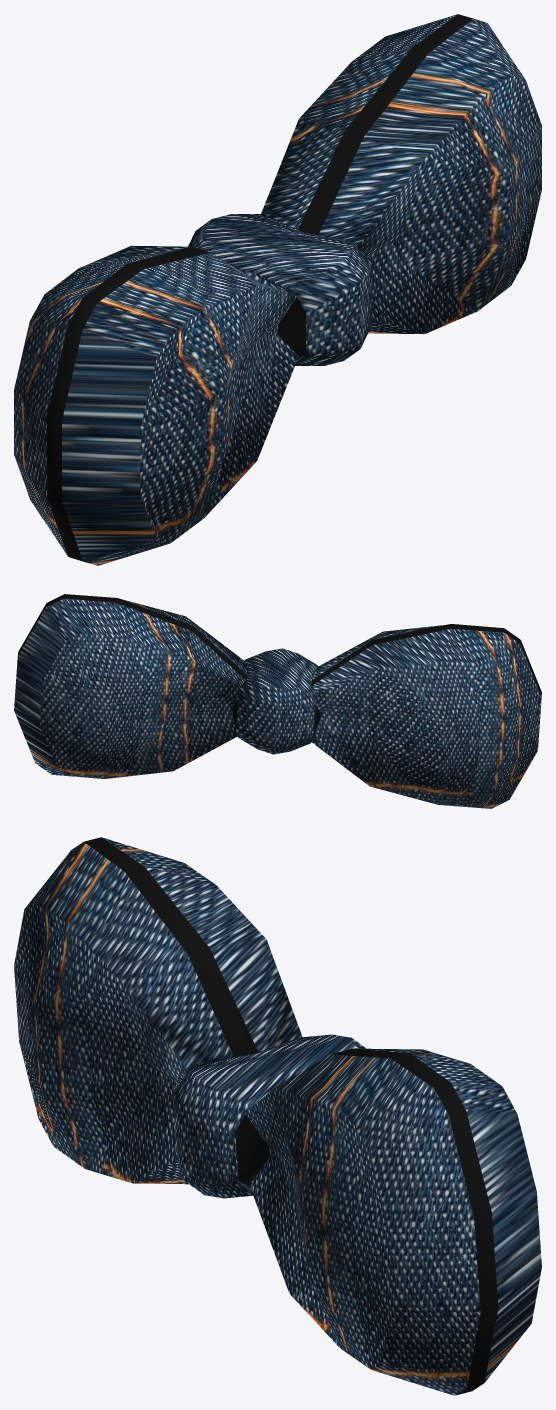
File: RIBBON_03.FBX
The picture shows the model from 3 angles, top to bottom: view 1: azimuth 30°, elevation 25°; view 2: azimuth 150°, elevation 25°; view 3: azimuth 270°, elevation 25°; orthographic projection. The views are drawn at different scales.
Visible parts, largest first — view 1: Box001; view 2: Box001; view 3: Box001.
Boxes of the visible parts, x1,y1,x2,y2 form: Box001: (14,14,541,565); Box001: (14,594,541,808); Box001: (14,837,541,1395).
Size of the model in its own units: 420 by 194 by 268.
Materials: 2 (1 with a texture image).
